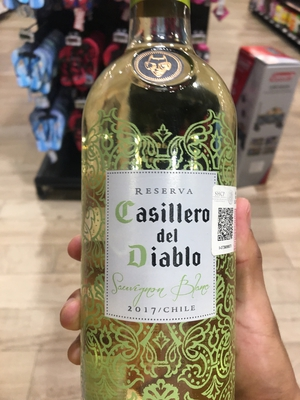casillero del diablo sauvignon blanc: (76, 14, 245, 400)
